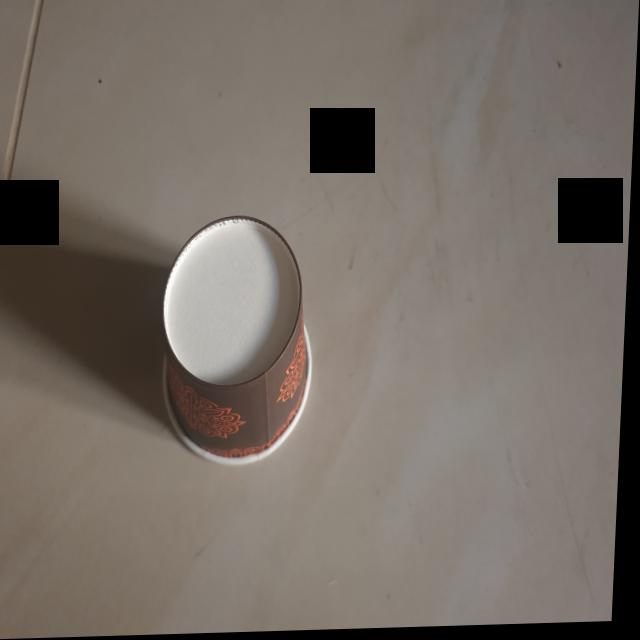cups: (154, 209, 327, 470)
